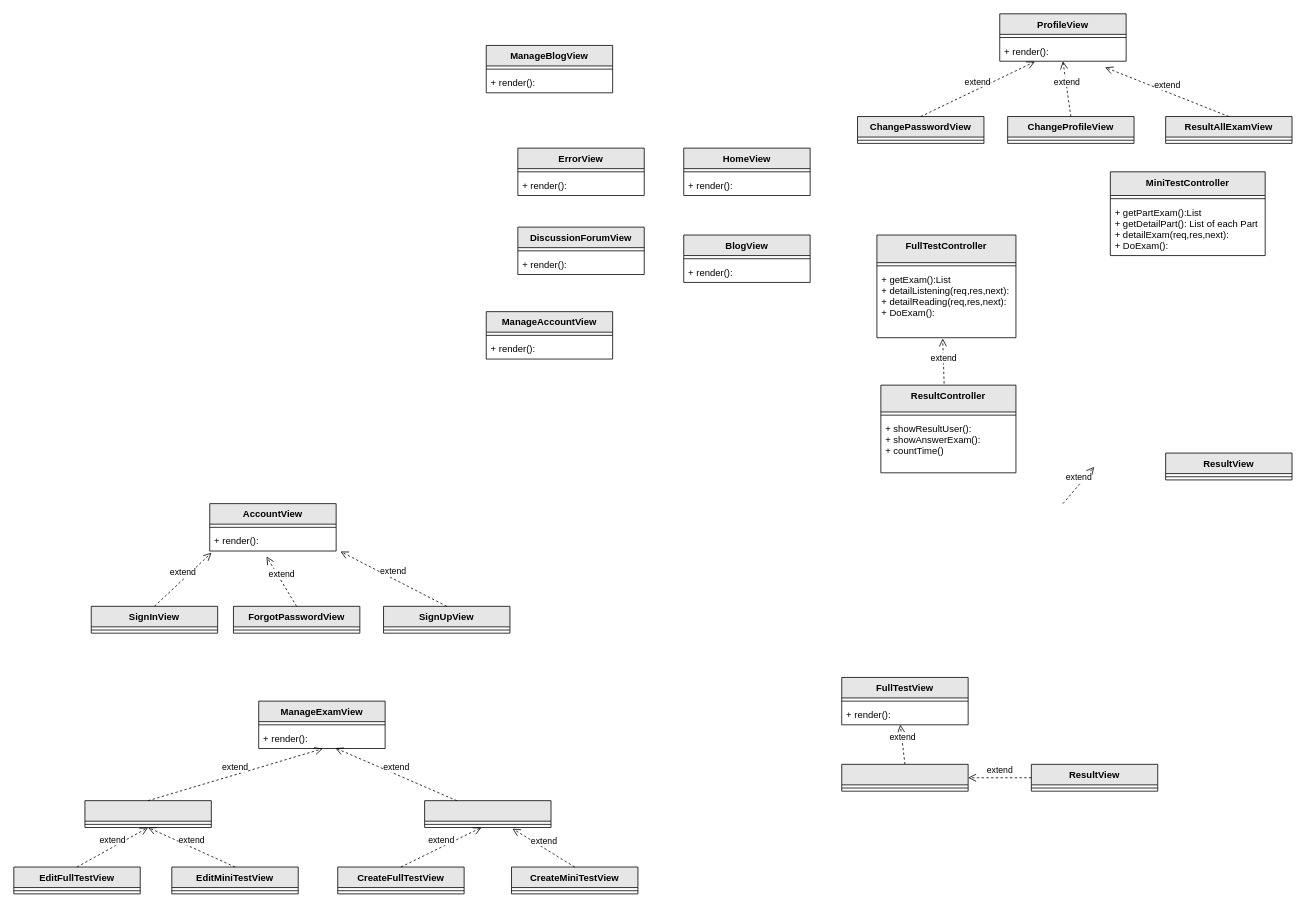
Image size: 1306x908. Some labels were removed from this diagram. The shapes that lost their labels are listed below. From the top down, each one's centre as x and y in pixels, then its label:
At point (904, 777): "DoFullTestView".
At point (147, 814): "EditExamView".
At point (487, 814): "CreateExamView".
